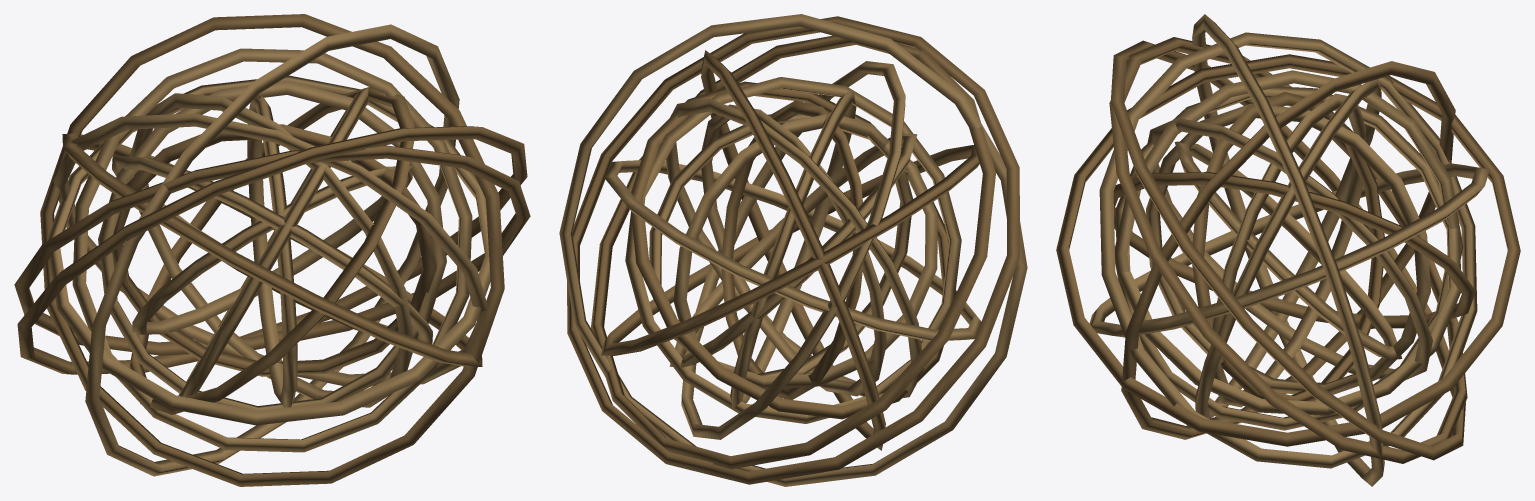
File: tumbleweed.glb
The picture shows the model from 3 angles, left to right: view 1: azimuth 30°, elevation 25°; view 2: azimuth 150°, elevation 25°; view 3: azimuth 270°, elevation 25°; orthographic projection. The views are drawn at different scales.
Visible parts, largest first — view 1: TumbleweedMesh; view 2: TumbleweedMesh; view 3: TumbleweedMesh.
Boxes of the visible parts, <box> form: TumbleweedMesh: <box>14,14,530,486</box>; TumbleweedMesh: <box>559,14,1027,486</box>; TumbleweedMesh: <box>1056,14,1520,486</box>.
Bounding box in the file's own units: 1.92 × 1.81 × 1.72.
